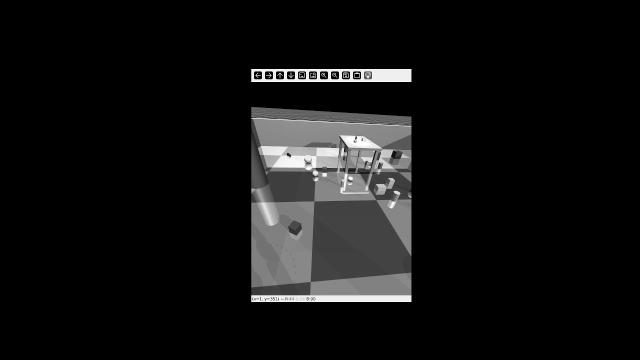cilindro: (251, 124, 279, 190), (391, 190, 401, 201), (338, 178, 346, 188), (376, 162, 384, 169), (342, 143, 348, 152), (285, 152, 293, 158), (376, 151, 381, 160), (354, 135, 358, 139)
cuadrado: (285, 217, 305, 238), (392, 146, 402, 161), (386, 174, 396, 187), (320, 164, 329, 173), (362, 136, 366, 141)
esfera: (302, 155, 313, 164), (312, 169, 320, 179), (347, 176, 355, 183), (353, 139, 359, 143)
rectangulo: (374, 183, 387, 192), (365, 159, 373, 167)
